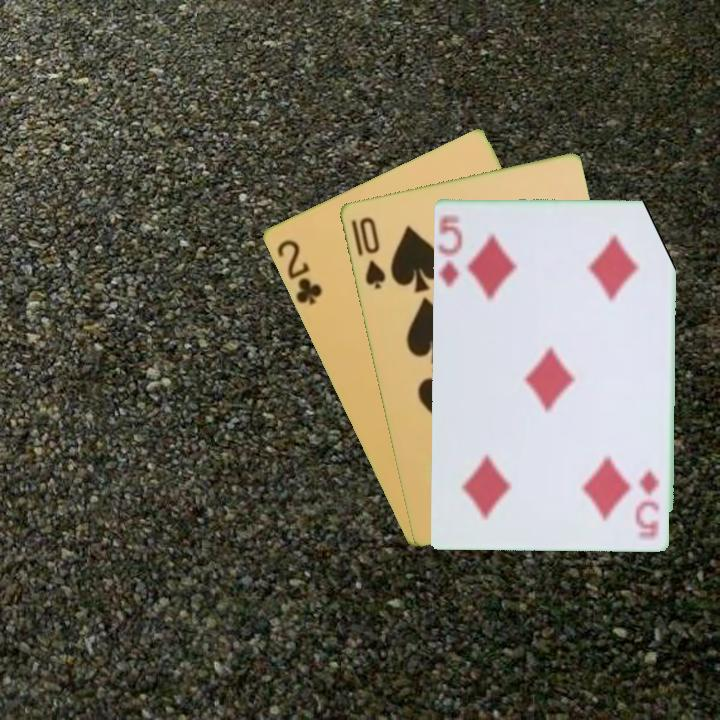10s: (347, 213, 388, 292)
2c: (273, 235, 325, 308)
5d: (435, 210, 465, 290), (639, 466, 662, 541)
